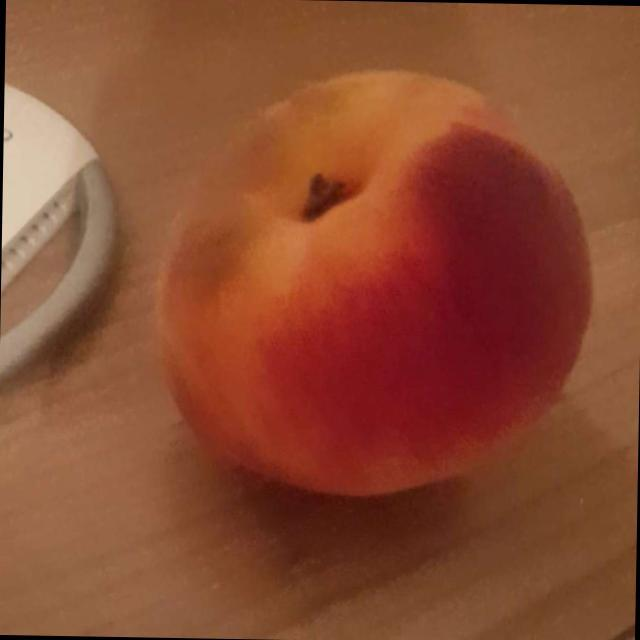Peach: (128, 40, 605, 523)
